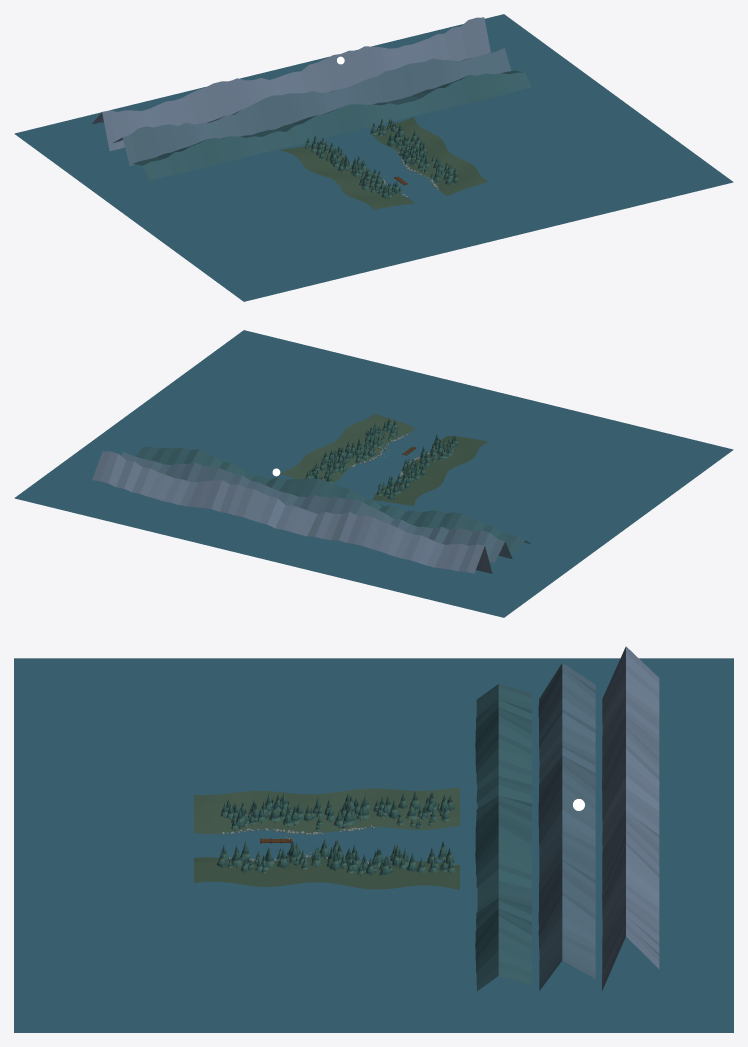
The model's file is lakeside-glow-fe5c4d756e57.glb.
3 renders of one model, top to bottom at view 1: azimuth 30°, elevation 25°; view 2: azimuth 150°, elevation 25°; view 3: azimuth 270°, elevation 25°, orthographic. The views are drawn at different scales.
Parts seen in each view (by area): view 1: Lake.WaterSurface, Lake.MountainFar, Lake.MountainMid, Lake.MountainNear, Lake.Bank, Lake.PineMid, Lake.PineDeep, Lake.PineTips; view 2: Lake.WaterSurface, Lake.MountainFar, Lake.MountainMid, Lake.MountainNear, Lake.Bank, Lake.PineDeep, Lake.PineMid, Lake.PineTips; view 3: Lake.WaterSurface, Lake.MountainFar, Lake.MountainMid, Lake.MountainNear, Lake.Bank, Lake.PineMid, Lake.PineDeep, Lake.PineTips.
Part boxes in pixels (<box>): Lake.WaterSurface: <box>14,14,733,301</box>; Lake.MountainFar: <box>92,17,490,151</box>; Lake.MountainMid: <box>113,48,511,165</box>; Lake.MountainNear: <box>132,70,531,180</box>; Lake.Bank: <box>280,117,488,209</box>; Lake.PineMid: <box>305,120,458,197</box>; Lake.PineDeep: <box>305,119,458,198</box>; Lake.PineTips: <box>305,118,457,196</box>; Lake.WaterSurface: <box>14,330,733,617</box>; Lake.MountainFar: <box>92,451,492,573</box>; Lake.MountainMid: <box>121,452,512,562</box>; Lake.MountainNear: <box>136,446,531,553</box>; Lake.Bank: <box>280,413,488,505</box>; Lake.PineDeep: <box>306,420,458,499</box>; Lake.PineMid: <box>305,417,458,498</box>; Lake.PineTips: <box>306,420,457,497</box>; Lake.WaterSurface: <box>14,658,733,1032</box>; Lake.MountainFar: <box>602,646,659,990</box>; Lake.MountainMid: <box>538,663,595,990</box>; Lake.MountainNear: <box>475,684,531,991</box>; Lake.Bank: <box>194,787,459,889</box>; Lake.PineMid: <box>217,791,455,875</box>; Lake.PineDeep: <box>217,792,454,874</box>; Lake.PineTips: <box>218,792,455,873</box>.
Size of the model in its own units: 320 by 29.2 by 260.
18 materials, 1 textured.
